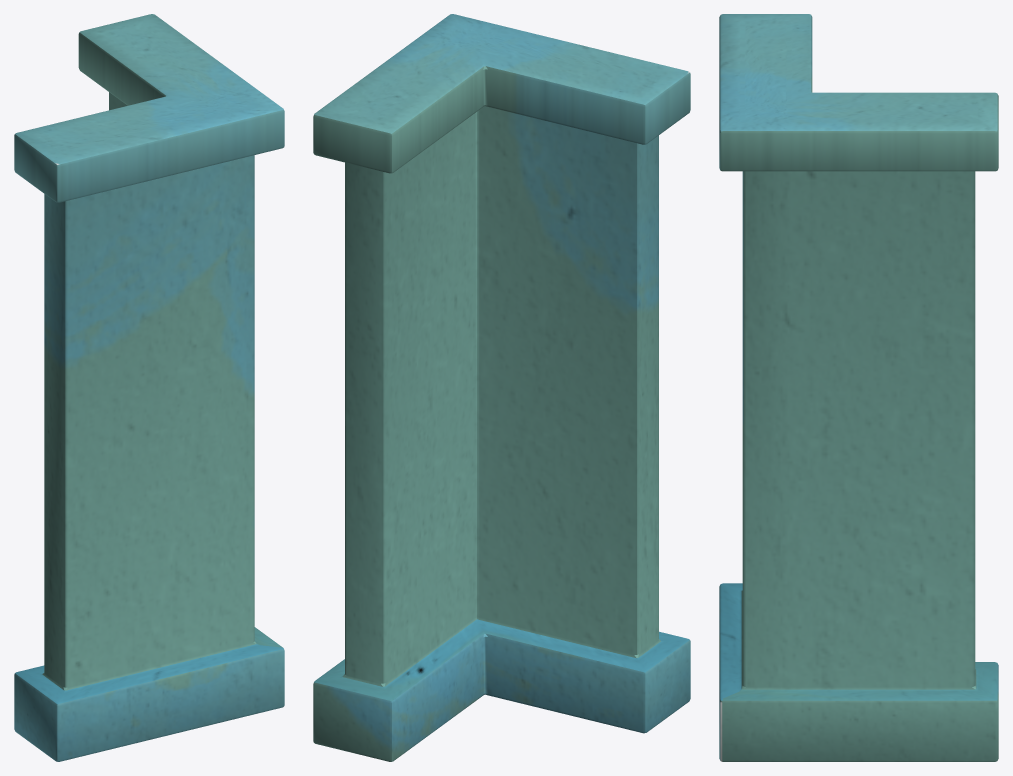
Rendered from TOMB_PILLAR_ANGLE.obj.
3 views of the same model, side by side, from view 1: azimuth 30°, elevation 25°; view 2: azimuth 150°, elevation 25°; view 3: azimuth 270°, elevation 25° (orthographic). The views are drawn at different scales.
Visible parts, largest first — view 1: TOMB_PILLAR_ANGLE.006; view 2: TOMB_PILLAR_ANGLE.006; view 3: TOMB_PILLAR_ANGLE.006.
Part boxes in pixels (left/top/right/bottom): TOMB_PILLAR_ANGLE.006: left=14, top=14, right=284, bottom=761; TOMB_PILLAR_ANGLE.006: left=313, top=14, right=690, bottom=761; TOMB_PILLAR_ANGLE.006: left=719, top=14, right=998, bottom=761.
Bounding box in the file's own units: 1.2 × 3 × 1.2.
